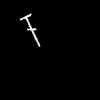double_crochet: (20, 14, 39, 45)
